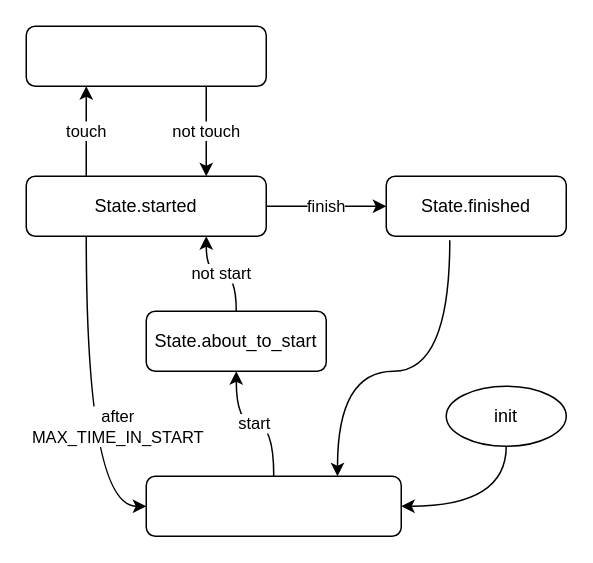
Image size: 593x563. Some labels were removed from this diagram. The shapes that lost their labels are listed below. From the top down, each one's box as (x1, y1, x2, y2) in pixels, then its label:
(25, 25, 266, 86): State.touched
(145, 475, 401, 536): State.waiting
